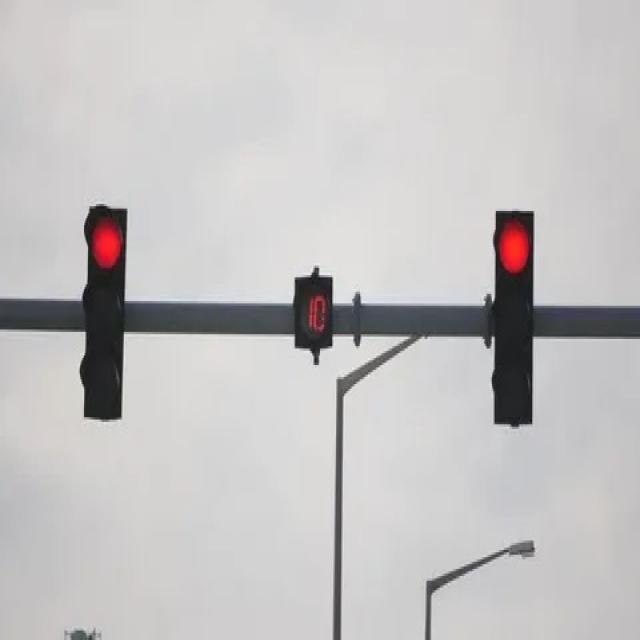kirmizi: (80, 206, 128, 421), (492, 212, 533, 423)
